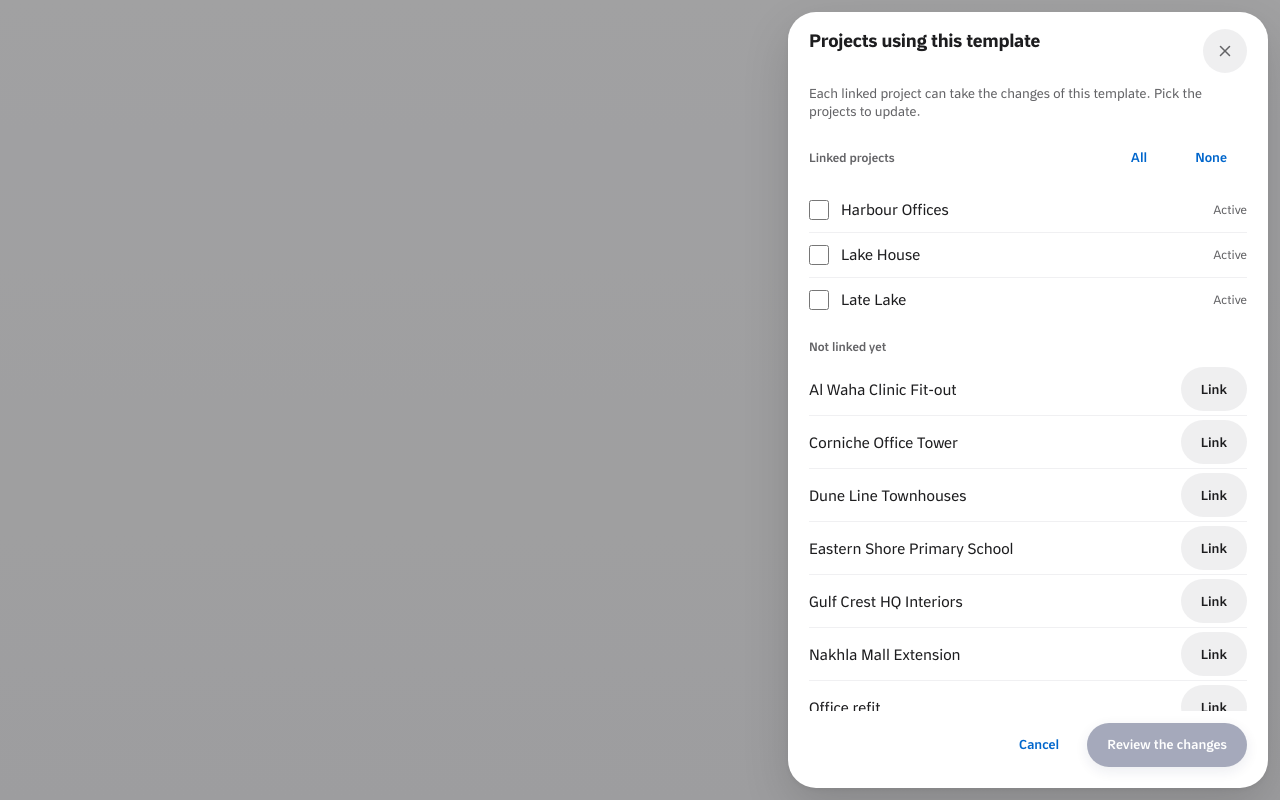
Test case: Projects using this template › counts and updates only the projects that change (ADM-19)
The width and height of the screenshot is (1280, 800).
Expected: the element "Linked projects" is shown, left=809, top=136, right=1247, bottom=322
Click the checkbox labelled "Late Lake Active": (819, 300) left=809, top=290, right=829, bottom=310
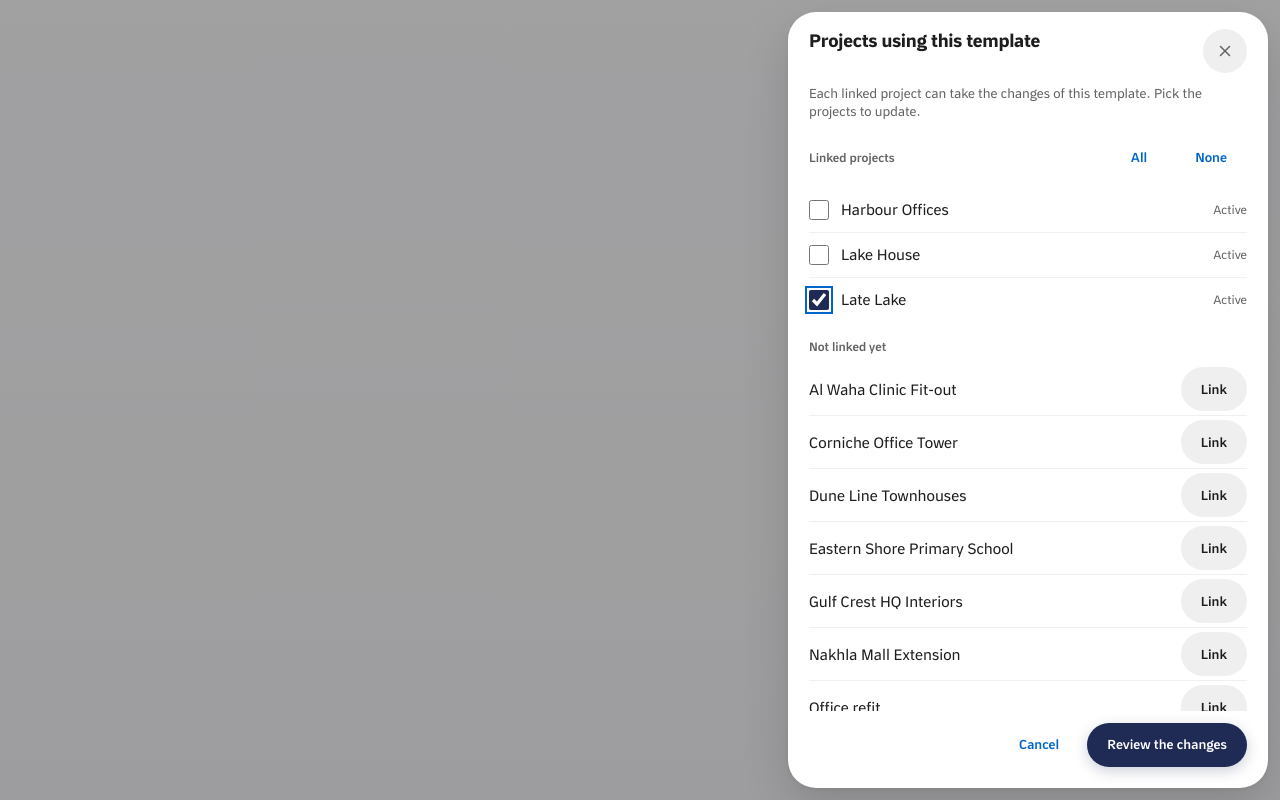
Click the checkbox labelled "Harbour Offices Active": (819, 210) left=809, top=200, right=829, bottom=220
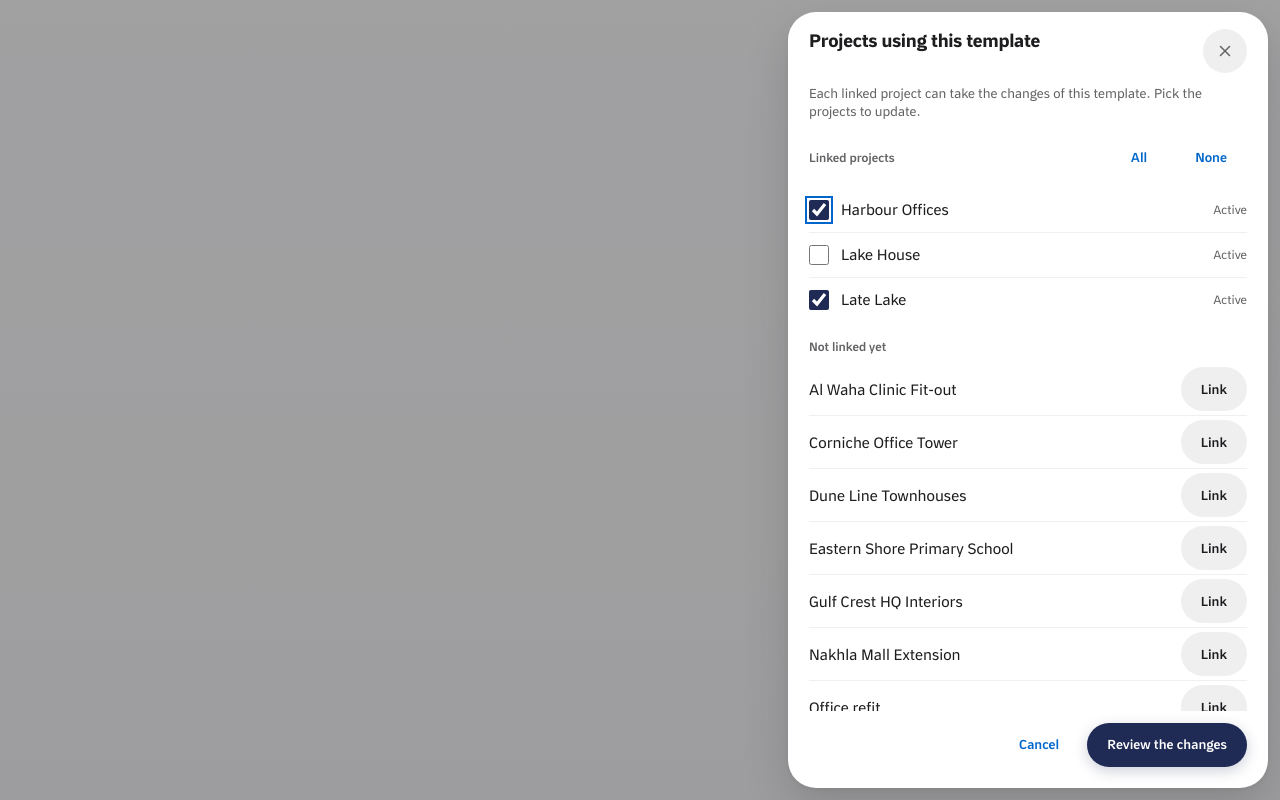
Click the button "Review the changes": (1167, 745) left=1087, top=723, right=1247, bottom=767
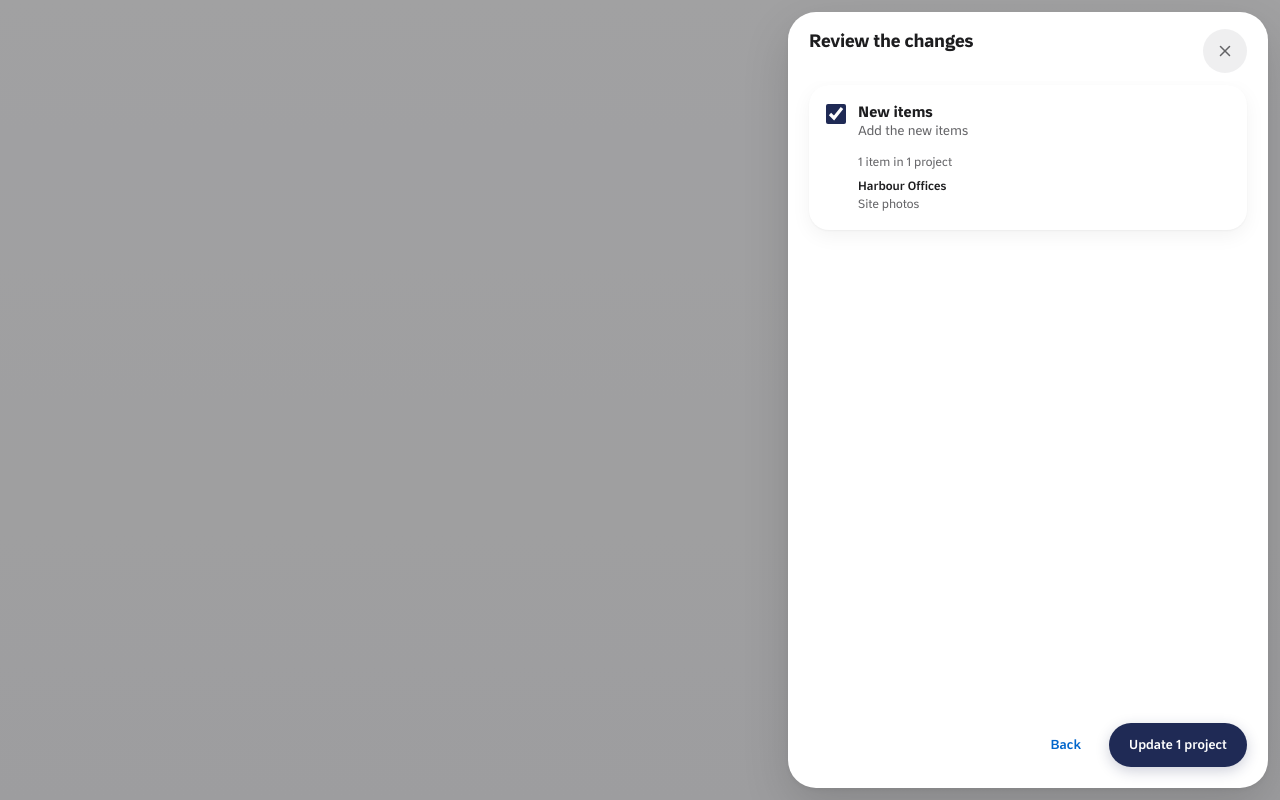
Now the button "Update 1 project" is enabled
Click the button "Update 1 project": (1178, 745) left=1109, top=723, right=1247, bottom=767
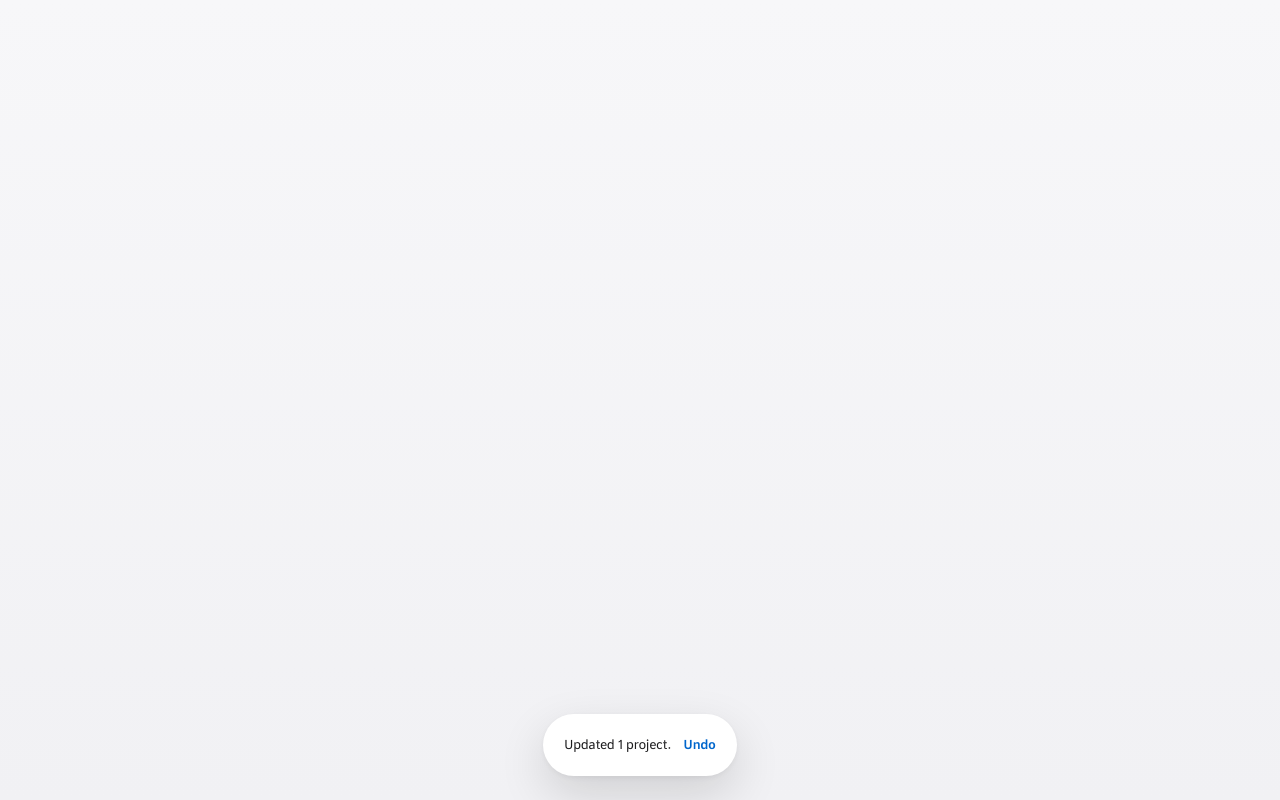
Now the text "Updated 1 project." is shown, box left=564, top=736, right=672, bottom=754
